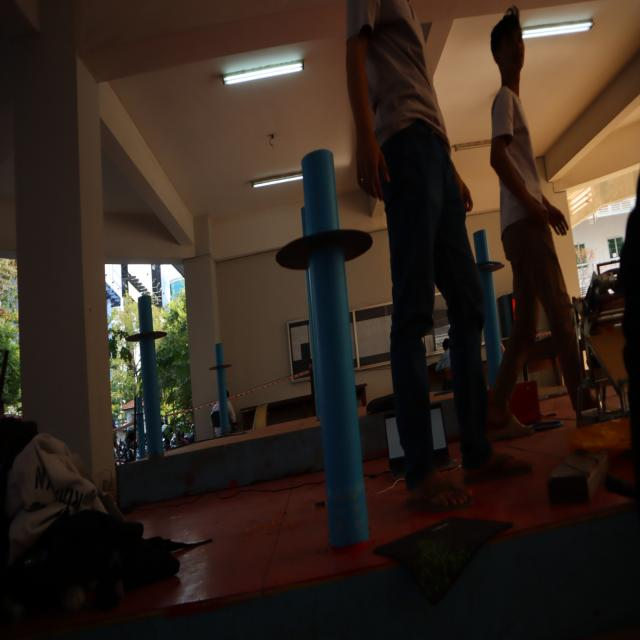pole: (271, 141, 389, 350), (124, 284, 168, 380), (209, 337, 235, 384)
